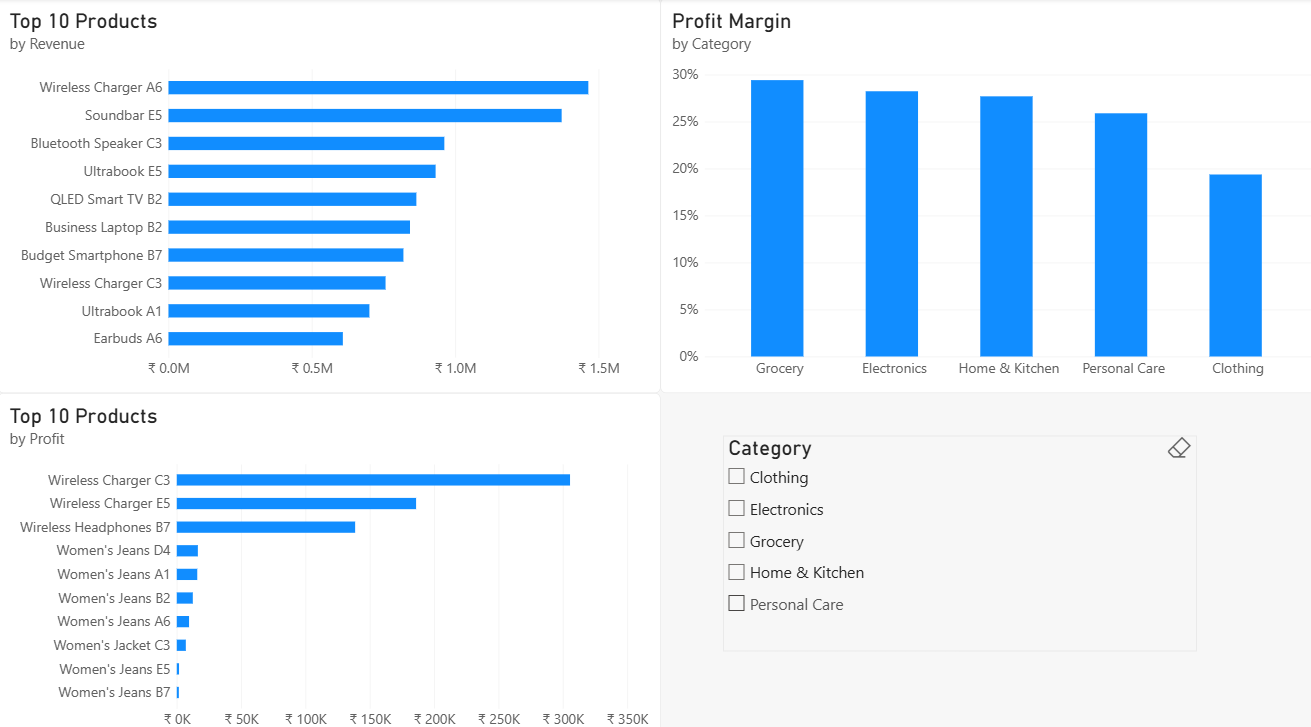

What the dashboard file says about the page in this screenshot:
{"tool":"powerbi","page":{"name":"Product & Category","canvas":[1920,1080],"ordinal":1},"visuals":[{"type":"clusteredBarChart","title":"Top 10 Products","fields":{"Category":["products_clean.ProductName"],"Y":["transactions_clean.Total Revenue"]},"box":[0,0,959.2,572.2],"z":0},{"type":"clusteredBarChart","title":"Top 10 Products","fields":{"Category":["products_clean.ProductName"],"Y":["transactions_clean.Total Profit"]},"box":[0,572.2,959.2,508.4],"z":1},{"type":"clusteredColumnChart","fields":{"Category":["products_clean.Category"],"Y":["transactions_clean.Profit Margin"]},"box":[959.2,0,961.2,572.2],"z":2},{"type":"slicer","fields":{"Values":["products_clean.Category"]},"box":[1049.7,634,685.4,312.9],"z":3}]}

Visuals, with their boxes in screenshot pixels (x1, y1, x2, y2), scaled from the page's 1920x1080 canvas onto the 1311x727 screenshot:
"Top 10 Products" clusteredBarChart: x1=0, y1=0, x2=655, y2=385
"Top 10 Products" clusteredBarChart: x1=0, y1=385, x2=655, y2=726
clusteredColumnChart - products_clean.Category x transactions_clean.Profit Margin: x1=655, y1=0, x2=1310, y2=385
slicer - products_clean.Category: x1=717, y1=427, x2=1185, y2=637
